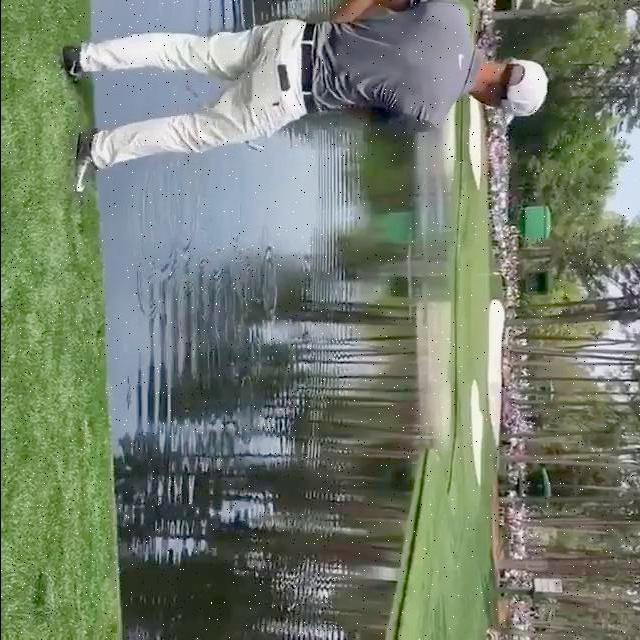golf club-head: (246, 140, 264, 152)
